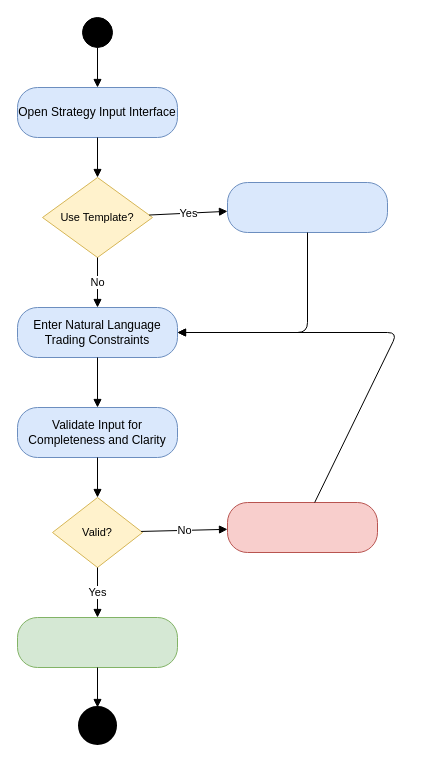
The diagram is 423 pixels wide and 762 high, and some of its shapes have lost their labels. The shapes that lost their labels are listed below. From the top down, each one's centre as x and y in pixels, then its label:
the point at 307,207: Browse Example Strategy Templates
the point at 302,527: Show Validation Error Message
the point at 97,642: Submit Strategy for Processing
